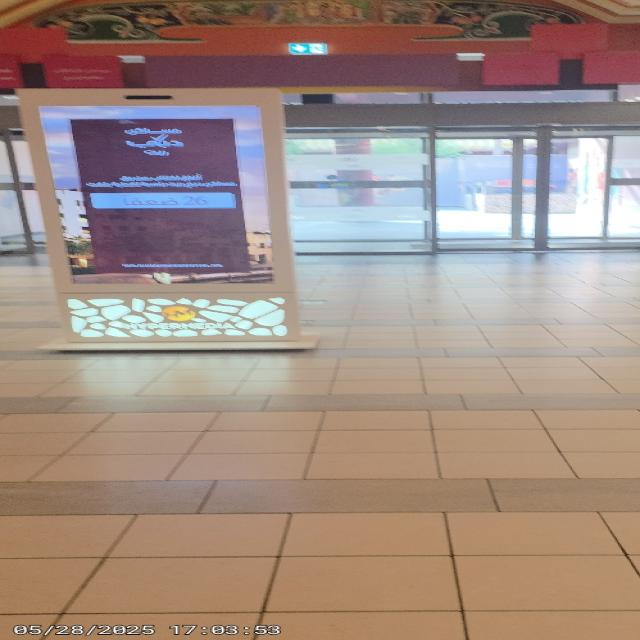mupi: (15, 88, 294, 339)
